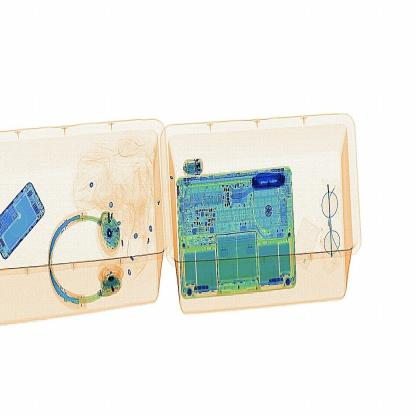scissors: (250, 168, 289, 197)
